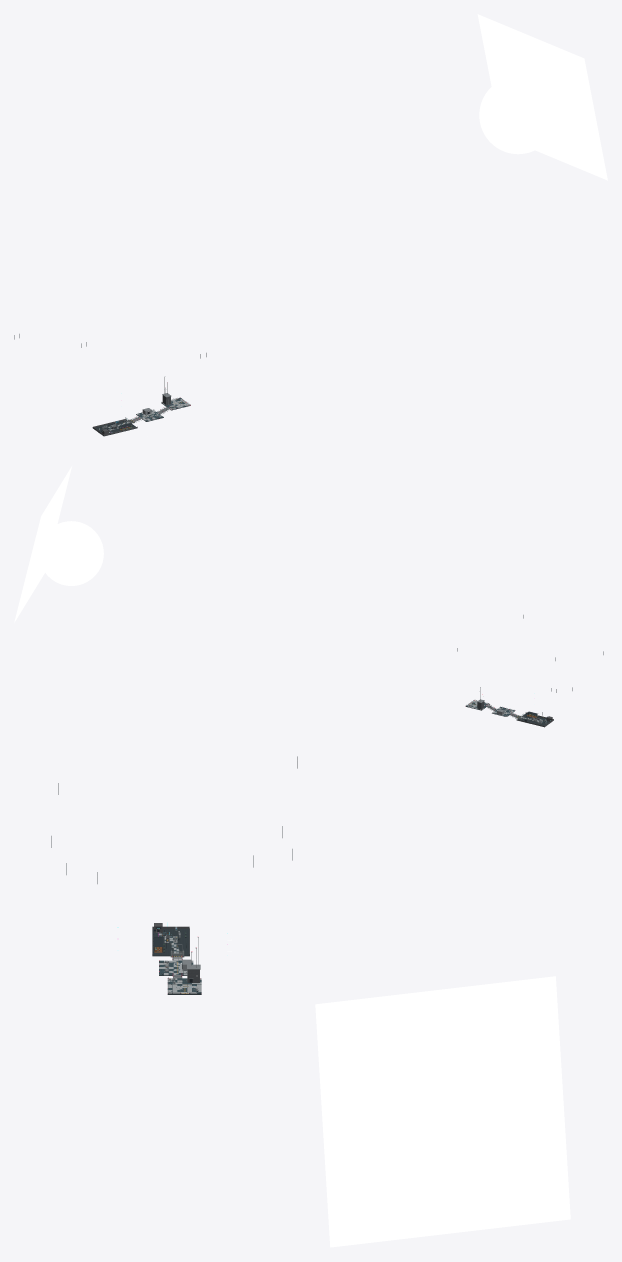
The model's file is tokyo-skyfall-mission.glb.
The picture shows the model from 3 angles, top to bottom: view 1: azimuth 30°, elevation 25°; view 2: azimuth 150°, elevation 25°; view 3: azimuth 270°, elevation 25°; orthographic projection. The views are drawn at different scales.
Visible parts, largest first — view 1: TS_EXP_MOON_HALO, TS_MOON; view 2: TS_MOON, TS_EXP_MOON_HALO; view 3: TS_EXP_MOON_HALO, TS_MOON, TS_MAIN_ROOF.
Boxes of the visible parts, x1,y1,x2,y2 form: TS_EXP_MOON_HALO: [477, 14, 607, 180]; TS_MOON: [479, 76, 557, 154]; TS_MOON: [39, 521, 103, 585]; TS_EXP_MOON_HALO: [14, 466, 71, 622]; TS_EXP_MOON_HALO: [315, 976, 570, 1247]; TS_MOON: [418, 1087, 466, 1136]; TS_MAIN_ROOF: [153, 928, 189, 956].
Bounding box in the file's own units: 679 × 230 × 304.
Materials: 66 (33 with a texture image).
